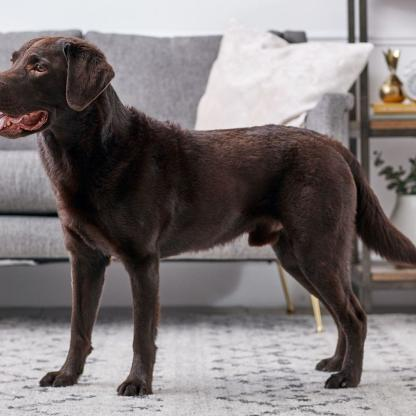dog: (0, 39, 408, 397)
